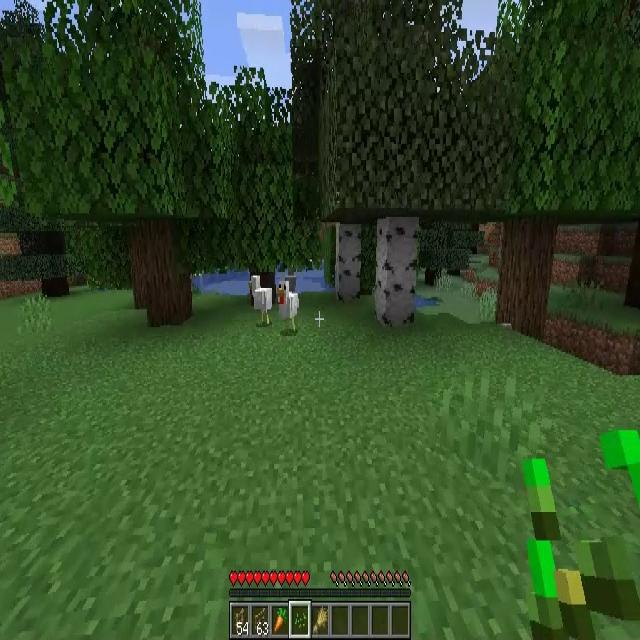duck: (277, 281, 299, 332), (248, 276, 270, 326)
